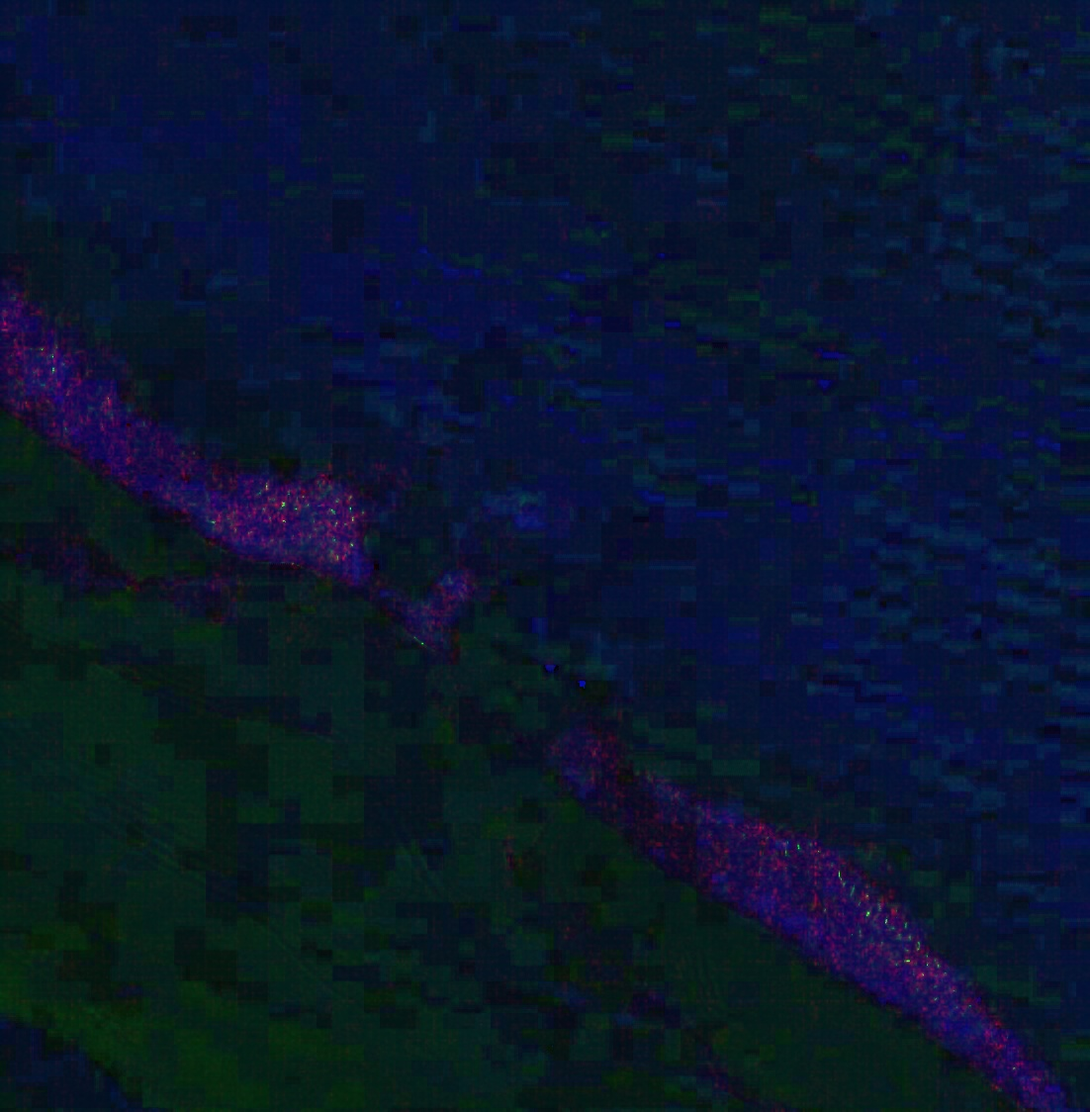rip_current: (190, 421, 390, 602)
